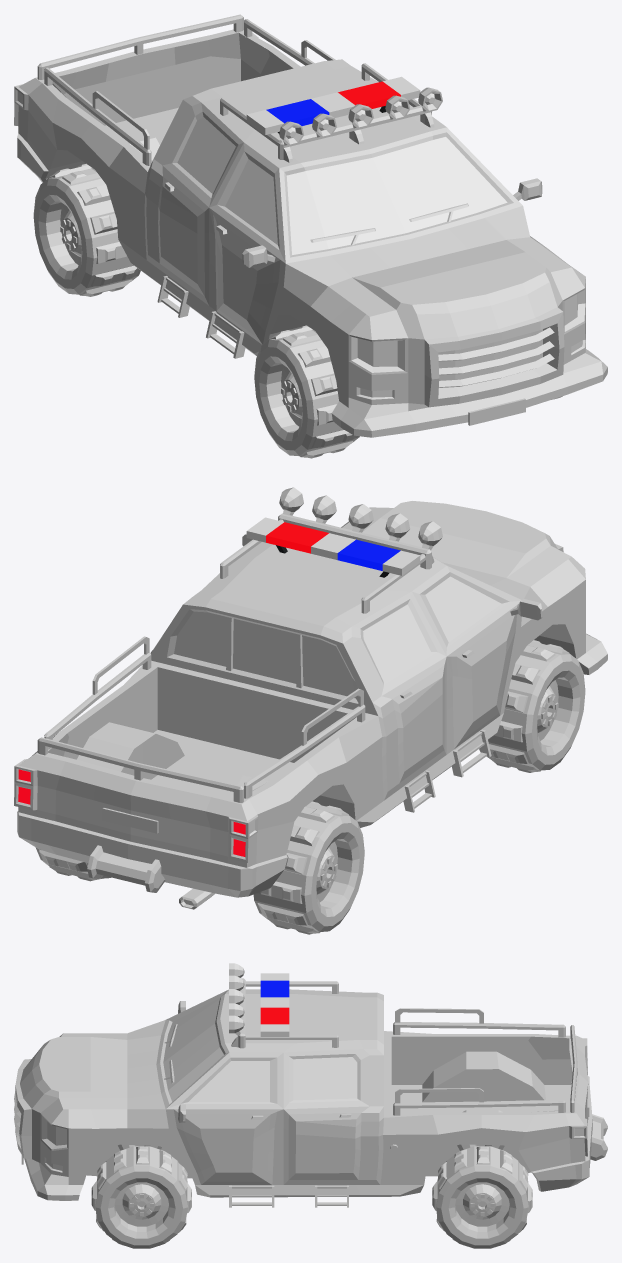
File: PoliceTruck.fbx
The picture shows the model from 3 angles, top to bottom: view 1: azimuth 30°, elevation 25°; view 2: azimuth 150°, elevation 25°; view 3: azimuth 270°, elevation 25°; orthographic projection. The views are drawn at different scales.
Parts seen in each view (by area): view 1: Body, FL, RL; view 2: Body, FL, RL, FR; view 3: Body, RR, FR.
Boxes of the visible parts, box(x1,y1,x2,y2) form: Body: box(14, 14, 607, 437); FL: box(33, 163, 140, 296); RL: box(254, 325, 359, 458); Body: box(14, 487, 607, 909); FL: box(253, 801, 364, 934); RL: box(479, 640, 585, 772); FR: box(35, 847, 110, 881); Body: box(14, 963, 607, 1207); RR: box(91, 1146, 191, 1248); FR: box(432, 1146, 532, 1248).
Size of the model in its own units: 72.65 by 64.09 by 162.
